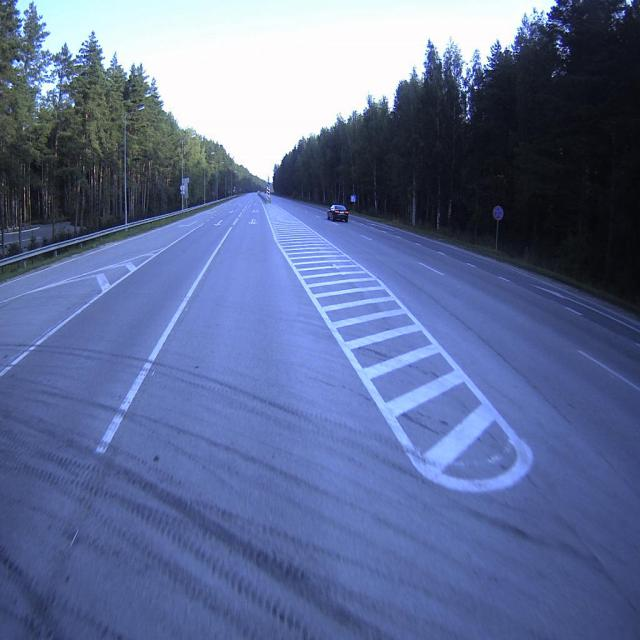road: (0, 192, 640, 639), (261, 193, 266, 196)
